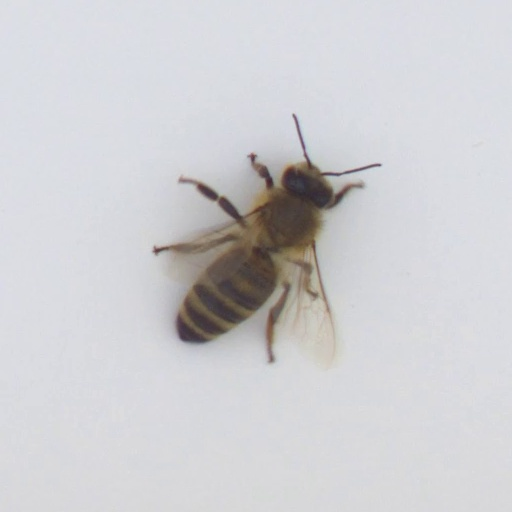Bee: (174, 159, 331, 344)
Thorax: (258, 191, 319, 253)
